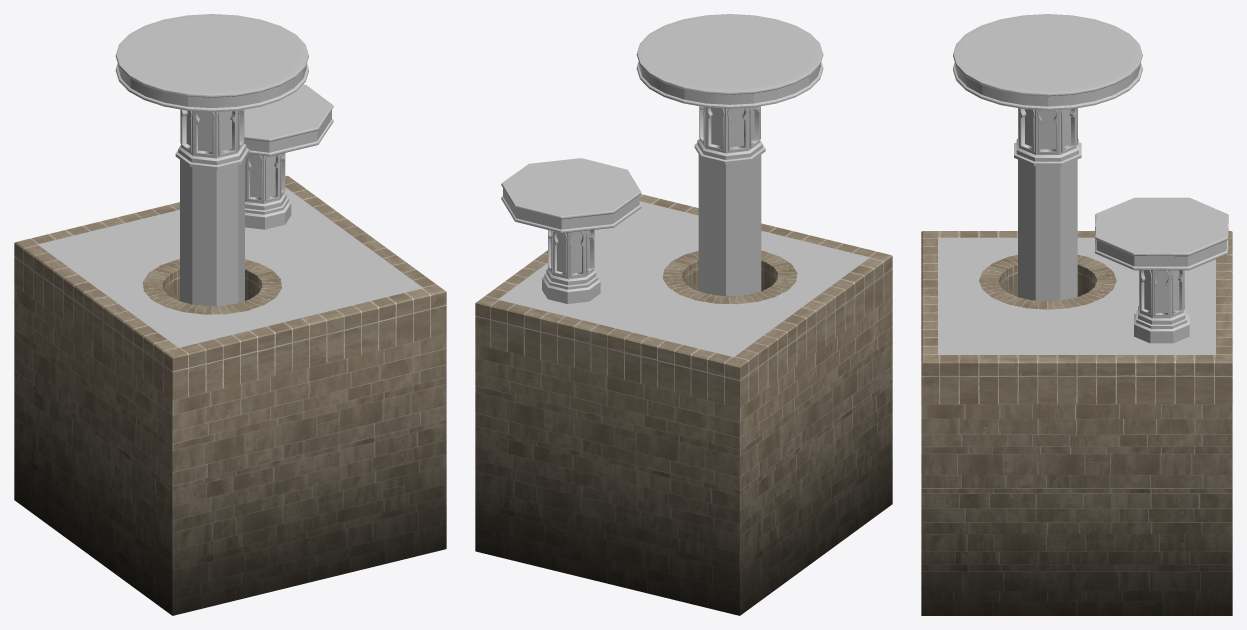
File: PlatformStack3.fbx
The picture shows the model from 3 angles, left to right: view 1: azimuth 30°, elevation 25°; view 2: azimuth 150°, elevation 25°; view 3: azimuth 270°, elevation 25°; orthographic projection. The views are drawn at different scales.
Visible parts, largest first — view 1: PlatformStack3_Floor, ColumnLarge, ColumnSmall; view 2: PlatformStack3_Floor, ColumnLarge, ColumnSmall; view 3: PlatformStack3_Floor, ColumnLarge, ColumnSmall.
Part boxes in pixels (bbox=[...]): PlatformStack3_Floor: bbox=[14, 175, 446, 615]; ColumnLarge: bbox=[115, 14, 308, 306]; ColumnSmall: bbox=[244, 84, 333, 229]; PlatformStack3_Floor: bbox=[475, 194, 892, 615]; ColumnLarge: bbox=[636, 14, 823, 295]; ColumnSmall: bbox=[501, 158, 641, 303]; PlatformStack3_Floor: bbox=[921, 231, 1232, 615]; ColumnLarge: bbox=[953, 14, 1142, 301]; ColumnSmall: bbox=[1095, 197, 1228, 343].
Size of what is drawn, in the model's own units: 500 by 852 by 500.
